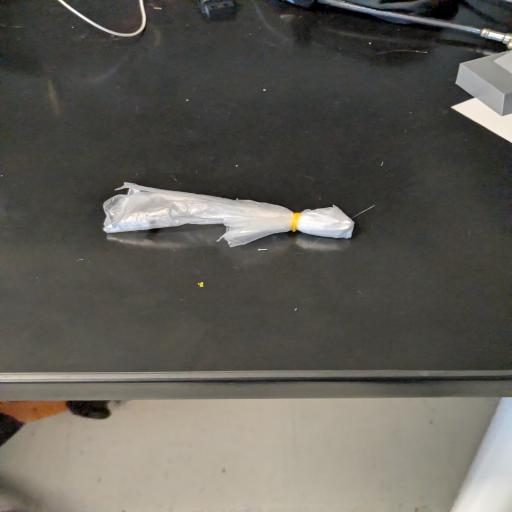rubberband: (99, 180, 357, 251)
